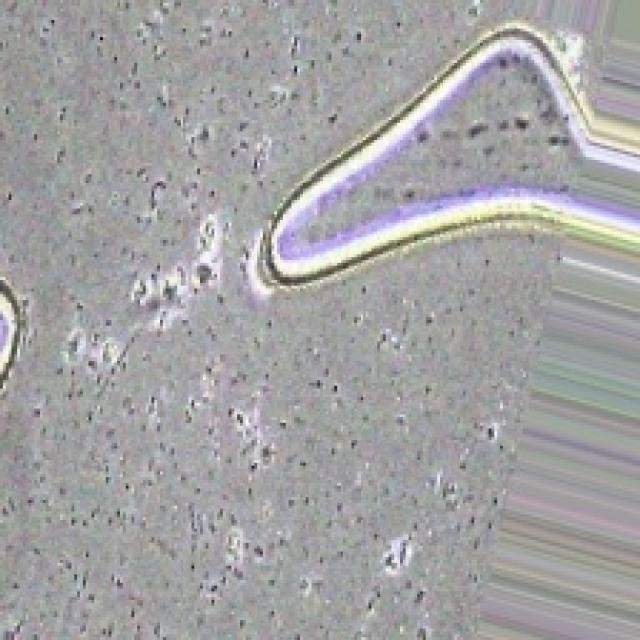Rod_bacteria: (252, 14, 637, 637)
